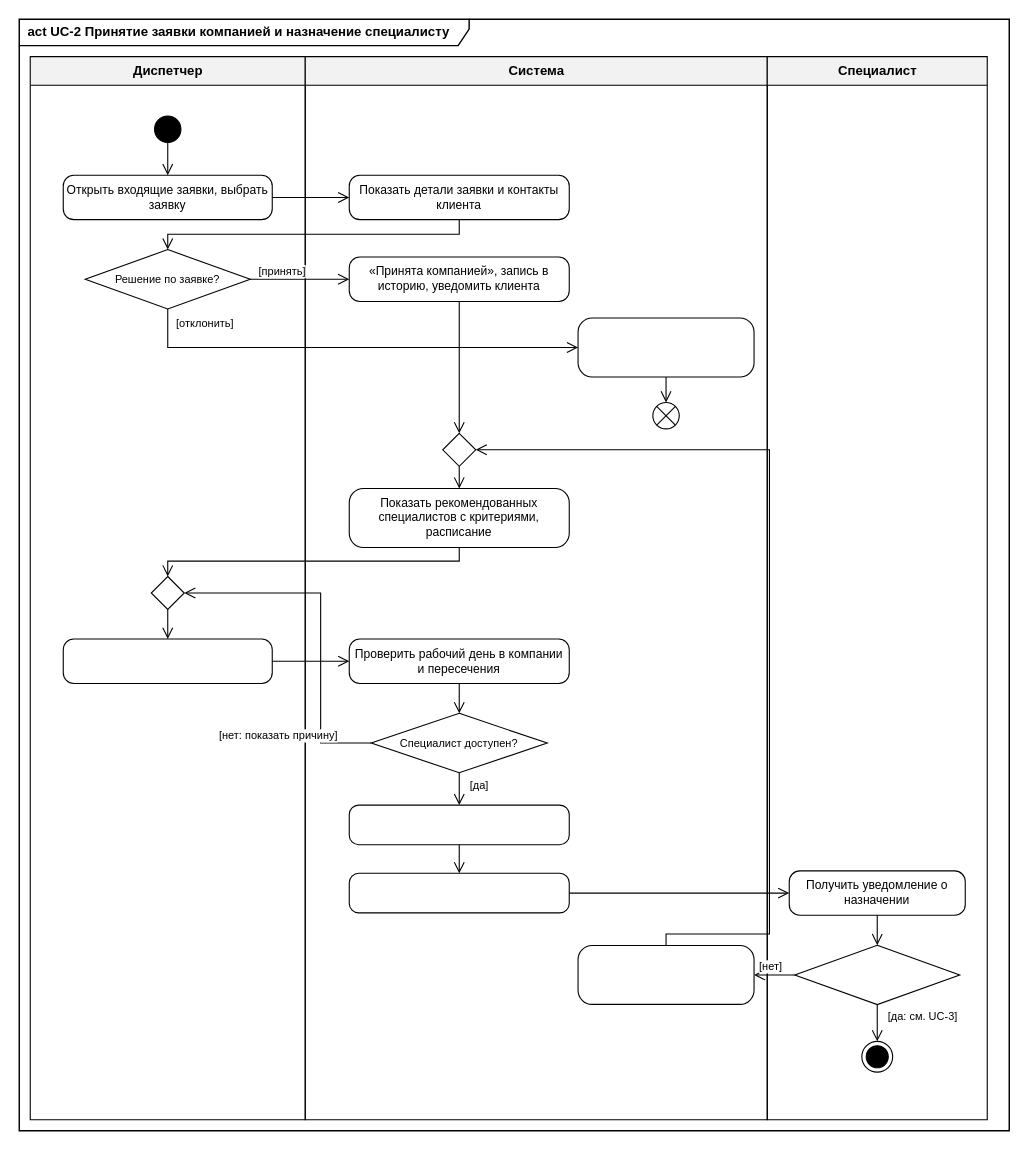
This 1030x1151 diagram has some shape labels left out. The shapes that lost their labels are listed below. From the top down, each one's centre as x and y in pixels, then its label:
point (665, 347): «Отклонена компанией», запись в историю, уведомить клиента
point (167, 660): Выбрать специалиста из рекомендованных или вручную
point (458, 824): «Назначена», запись в историю
point (458, 892): Уведомить специалиста и клиента
point (665, 974): Вернуть заявку в «Принята компанией», уведомить диспетчера
point (877, 974): Принять назначение?
